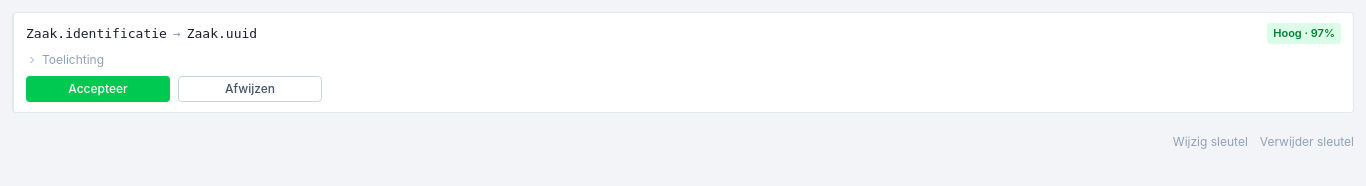
Test: AISuggestionPanel › passes reasoning through to the suggestion card as a Toelichting toggle
Click the button with test id "toelichting-toggle". click: (65, 60)
box: [26,52,104,68]
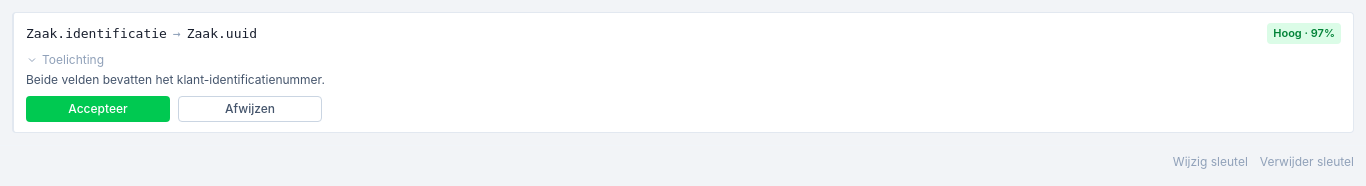
Result: the text with test id "toelichting-text" reads "Beide velden bevatten het klant-identificatienummer." at [26,72,325,86]
